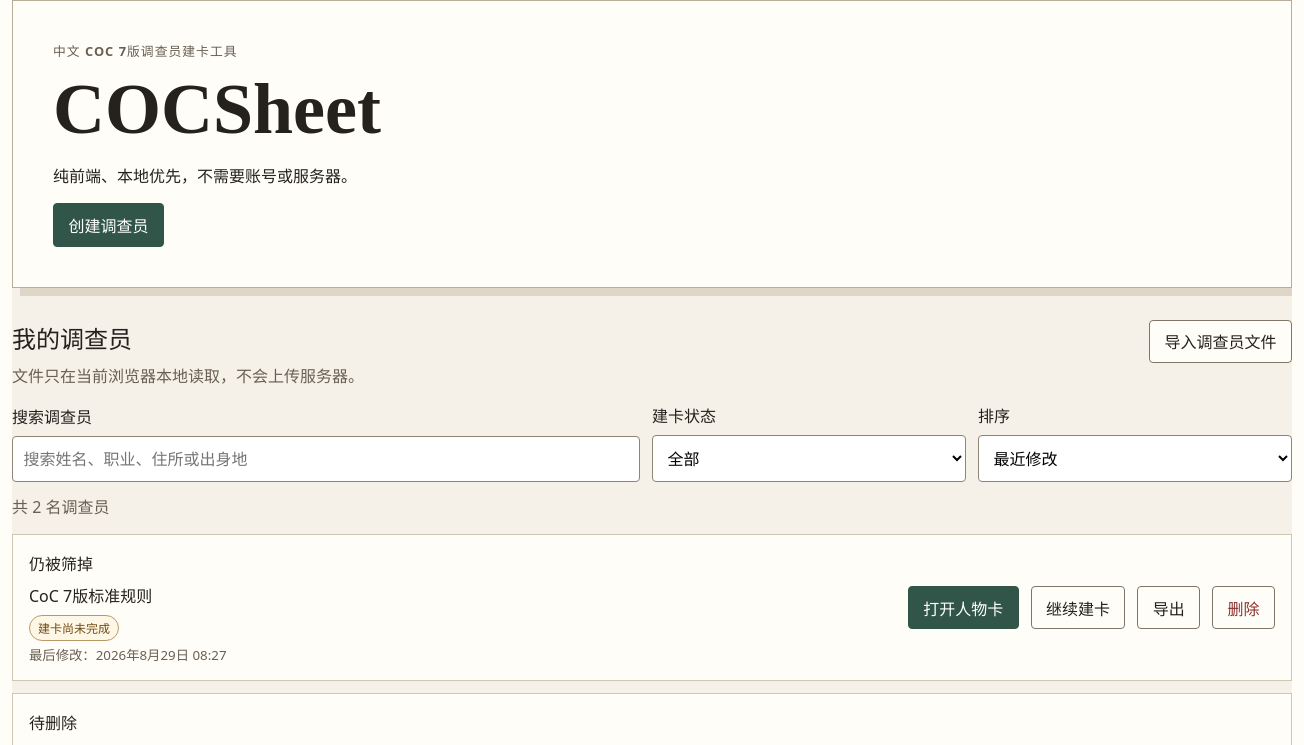
Test case: HomePage investigator library browsing › updates the derived filtered result after deletion without resetting controls
Select "建卡已完成" in the dropdown labelled "建卡状态" at (809, 459), box [652, 435, 966, 482]
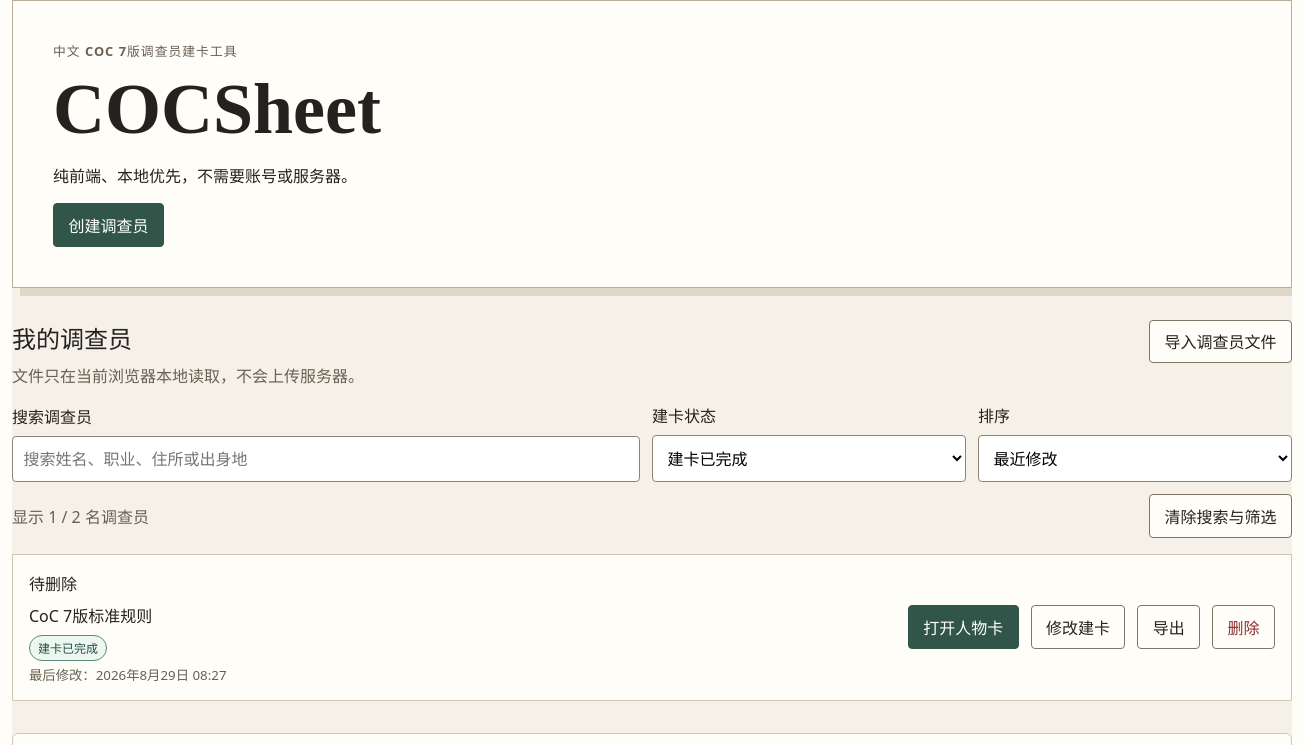
Click the button with class "danger".
click(1244, 627)  # box [1212, 606, 1275, 649]
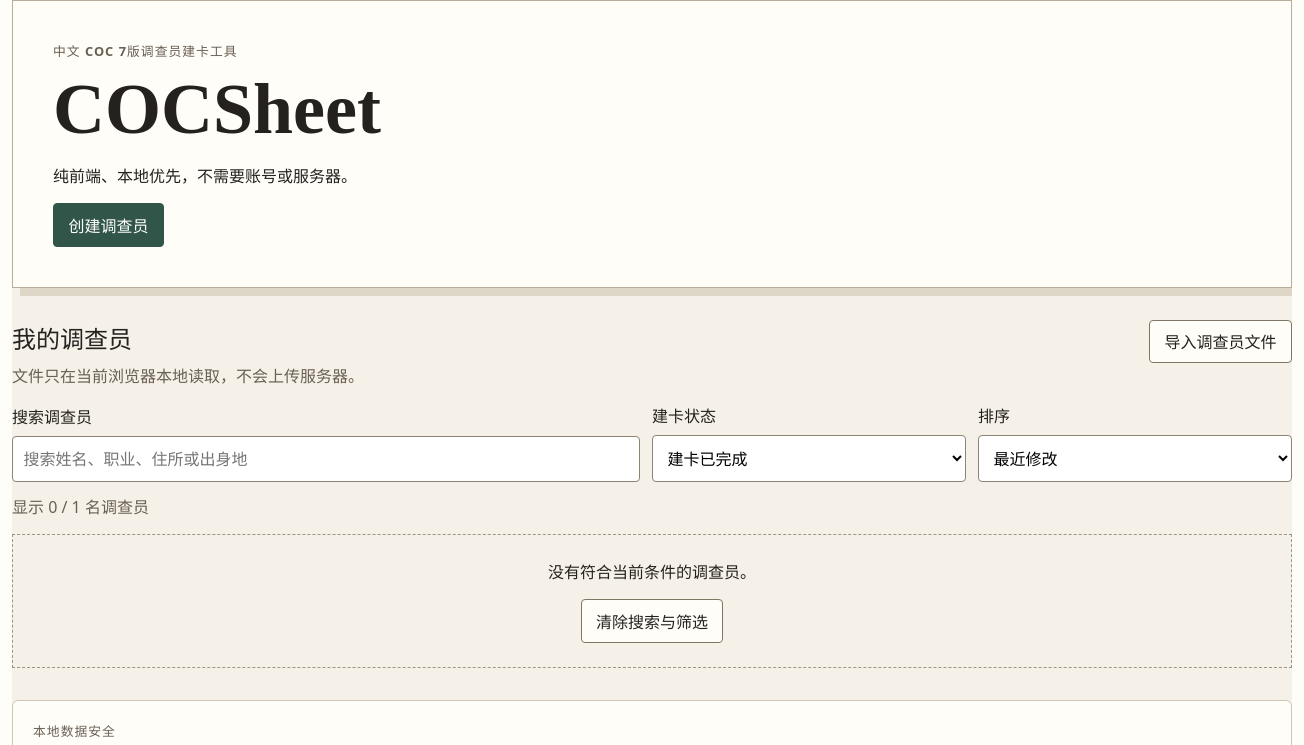
Now the text "没有符合当前条件的调查员。" is shown, box [548, 561, 756, 583]
Now the text "显示 0 / 1 名调查员" is shown, box [12, 494, 149, 518]
